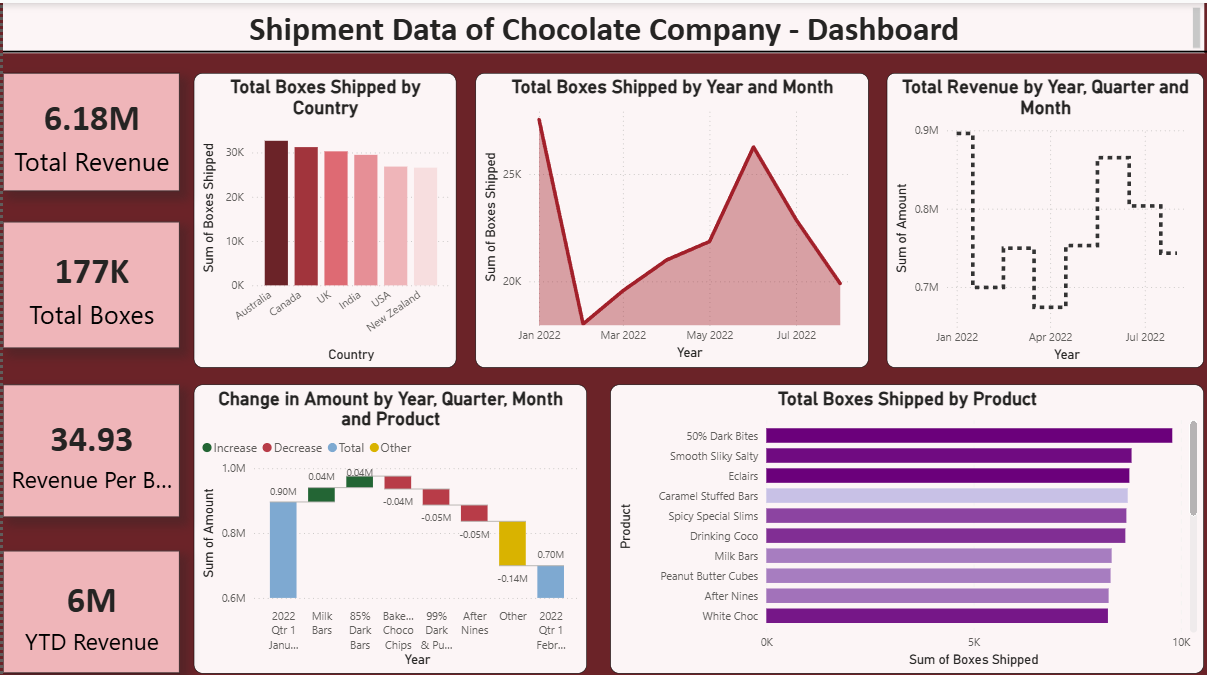

This screenshot's page, from the dashboard's own definition file:
{"tool":"powerbi","page":{"name":"Dashboard","canvas":[1343,757],"ordinal":0},"visuals":[{"type":"columnChart","title":"Total Boxes Shipped by Country","fields":{"Category":["data.Country"],"Y":["Sum(data.Boxes Shipped)"]},"box":[210.2,77.4,289.8,325.2],"z":0},{"type":"waterfallChart","title":"Change in  Amount by Year, Quarter, Month and Product","fields":{"Category":["data.Date.Variation.Date Hierarchy.Year","data.Date.Variation.Date Hierarchy.Quarter","data.Date.Variation.Date Hierarchy.Month"],"Breakdown":["data.Product"],"Y":["Sum(data.Amount)"]},"box":[210.2,420.4,433.7,318.6],"z":1000},{"type":"barChart","title":"Total Boxes Shipped by Product","fields":{"Category":["data.Product"],"Y":["Sum(data.Boxes Shipped)"]},"box":[670.4,420.4,654.9,318.6],"z":2000},{"type":"lineChart","title":"Total Revenue by Year, Quarter and Month","fields":{"Category":["data.Date.Variation.Date Hierarchy.Year","data.Date.Variation.Date Hierarchy.Quarter","data.Date.Variation.Date Hierarchy.Month"],"Y":["Sum(data.Amount)"]},"box":[975.7,77.4,349.6,325.2],"z":3000},{"type":"areaChart","title":"Total Boxes Shipped by Year and Month","fields":{"Category":["data.Date.Variation.Date Hierarchy.Year","data.Date.Variation.Date Hierarchy.Month"],"Y":["Sum(data.Boxes Shipped)"]},"box":[522.2,77.4,433.7,325.2],"z":4000},{"type":"textbox","box":[0,0,1325.3,55.3],"z":5000},{"type":"shape","box":[0,28.9,1342.2,49.3],"z":6000},{"type":"card","fields":{"Values":["data.Total Revenue"]},"box":[0,77.4,194.7,130.5],"z":7000},{"type":"card","fields":{"Values":["data.Total Boxes"]},"box":[0,241.2,194.7,139.4],"z":7001},{"type":"card","fields":{"Values":["data.Revenue Per Box"]},"box":[0,420.4,194.7,146],"z":7002},{"type":"card","fields":{"Values":["data.YTD Revenue"]},"box":[0,604,194.7,135],"z":7003}]}

Visuals, with their boxes in screenshot pixels (x1, y1, x2, y2), scaled from the page's 1343x757 canvas onto the 1207x675 screenshot:
"Total Boxes Shipped by Country" columnChart: detection(189, 69, 449, 359)
"Change in  Amount by Year, Quarter, Month and Product" waterfallChart: detection(189, 375, 579, 659)
"Total Boxes Shipped by Product" barChart: detection(603, 375, 1191, 659)
"Total Revenue by Year, Quarter and Month" lineChart: detection(877, 69, 1191, 359)
"Total Boxes Shipped by Year and Month" areaChart: detection(469, 69, 859, 359)
textbox: detection(0, 0, 1191, 49)
shape: detection(0, 26, 1206, 70)
card - data.Total Revenue: detection(0, 69, 175, 185)
card - data.Total Boxes: detection(0, 215, 175, 339)
card - data.Revenue Per Box: detection(0, 375, 175, 505)
card - data.YTD Revenue: detection(0, 539, 175, 659)
